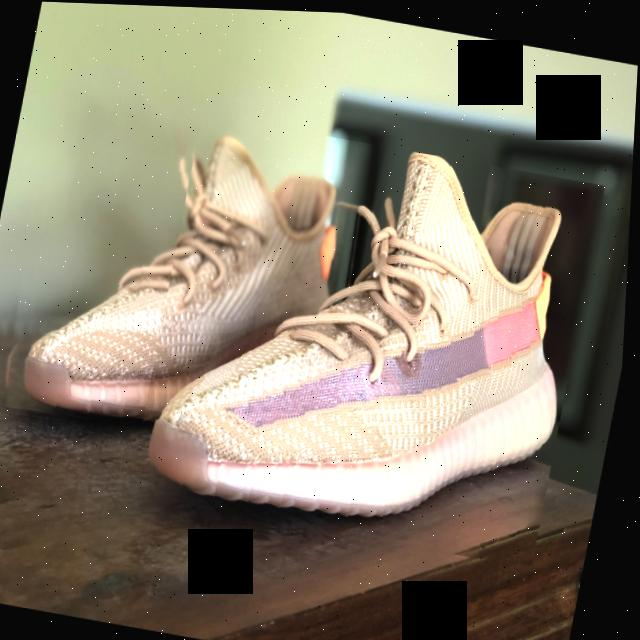shoe: (130, 111, 609, 575), (0, 96, 367, 459)
